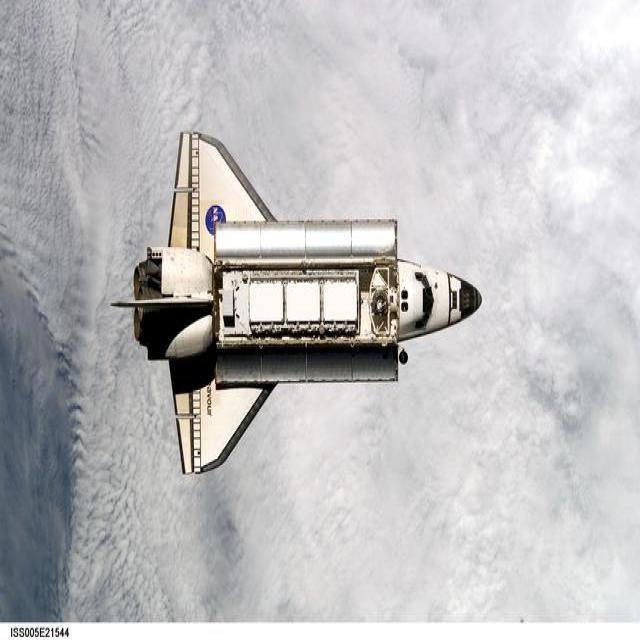medium_debris: (116, 132, 481, 472)
